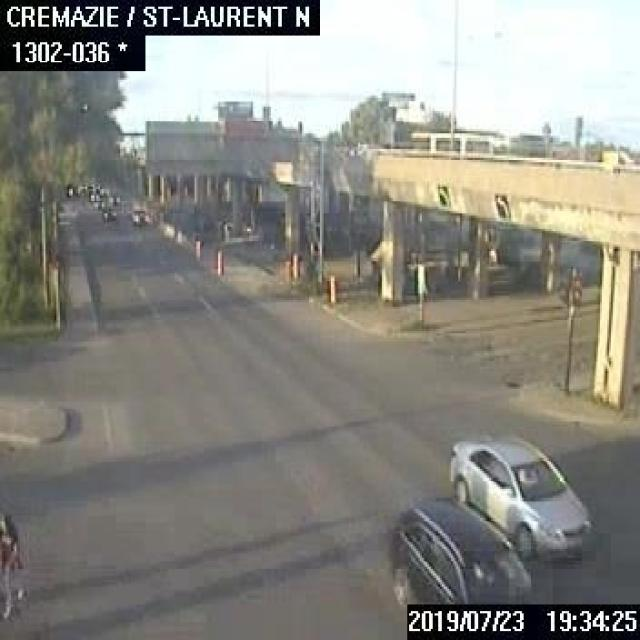construction: (289, 249, 298, 280), (327, 271, 335, 298), (214, 247, 222, 271), (194, 234, 201, 258)
cyclist: (0, 509, 29, 618)
vehicle: (442, 434, 594, 560), (387, 497, 539, 602), (129, 204, 151, 224), (98, 204, 116, 218), (86, 189, 98, 202)
